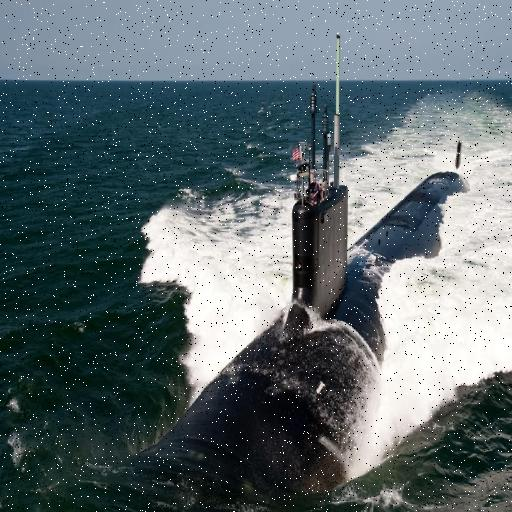submarine: (106, 26, 474, 512)
